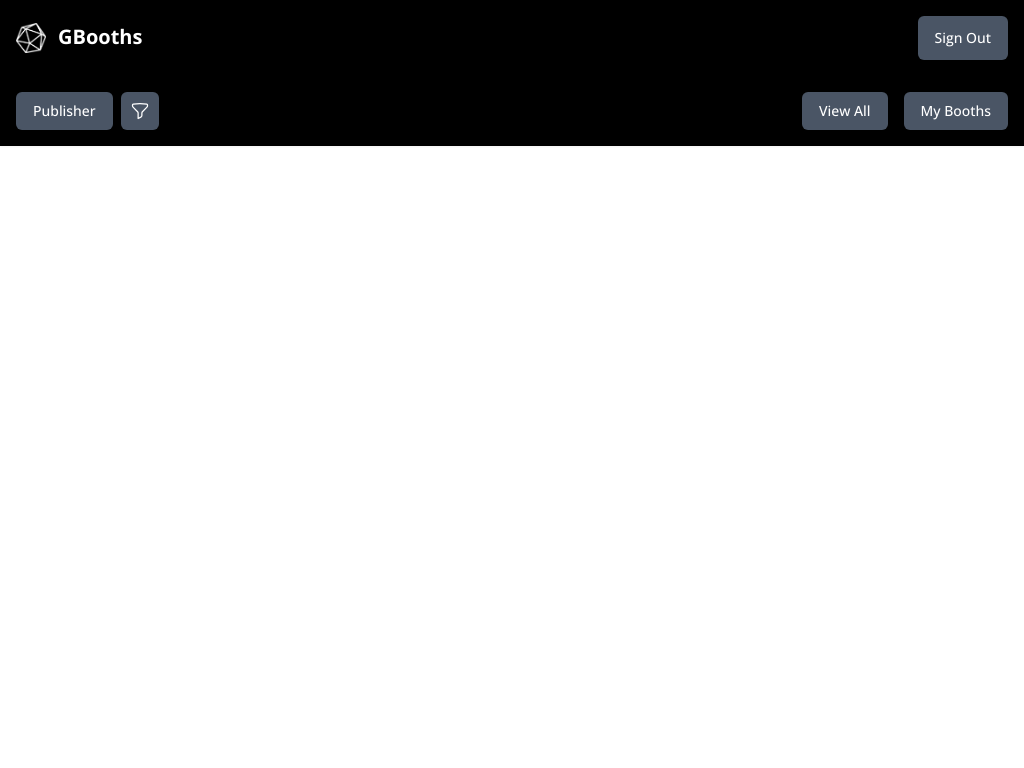
Test: Header › opens the filter sheet when the filter button is clicked
expect the text "Filters" is not shown: met
Click the button named "Filter booths".
click(140, 111)  # box left=121, top=92, right=159, bottom=130
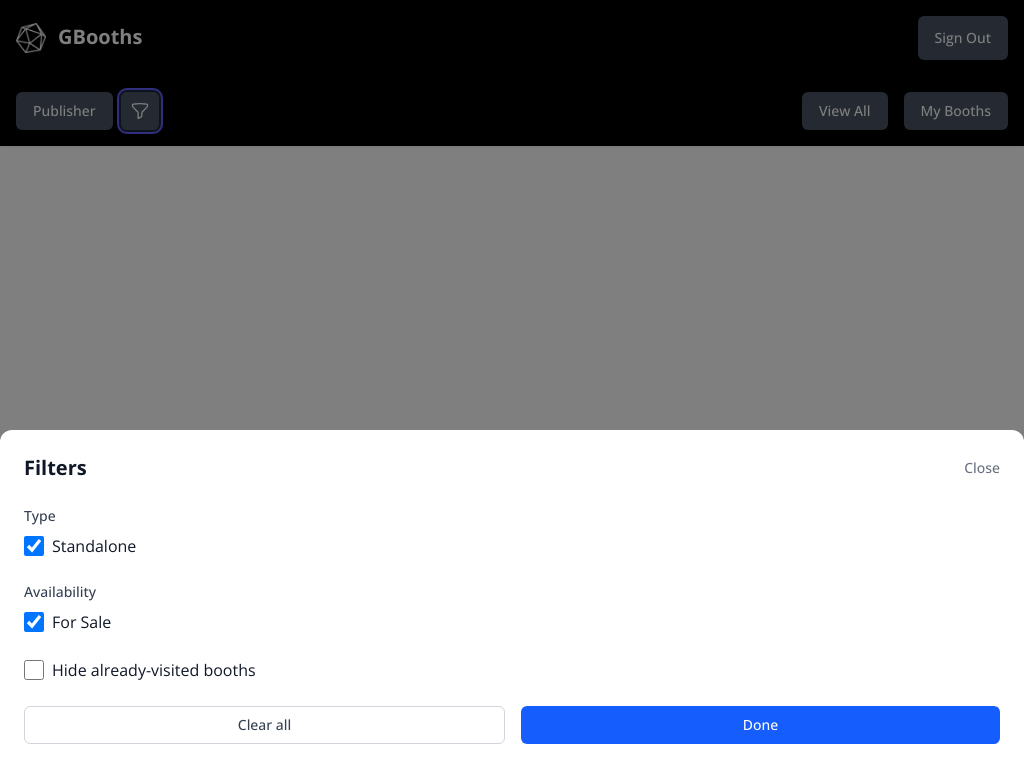
expect the heading "Filters" is shown: met, box left=24, top=454, right=87, bottom=482
